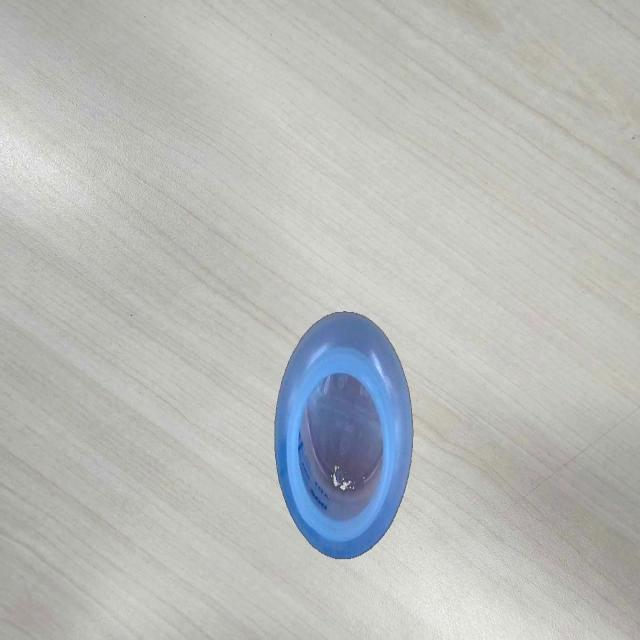bottle: (272, 306, 420, 565)
